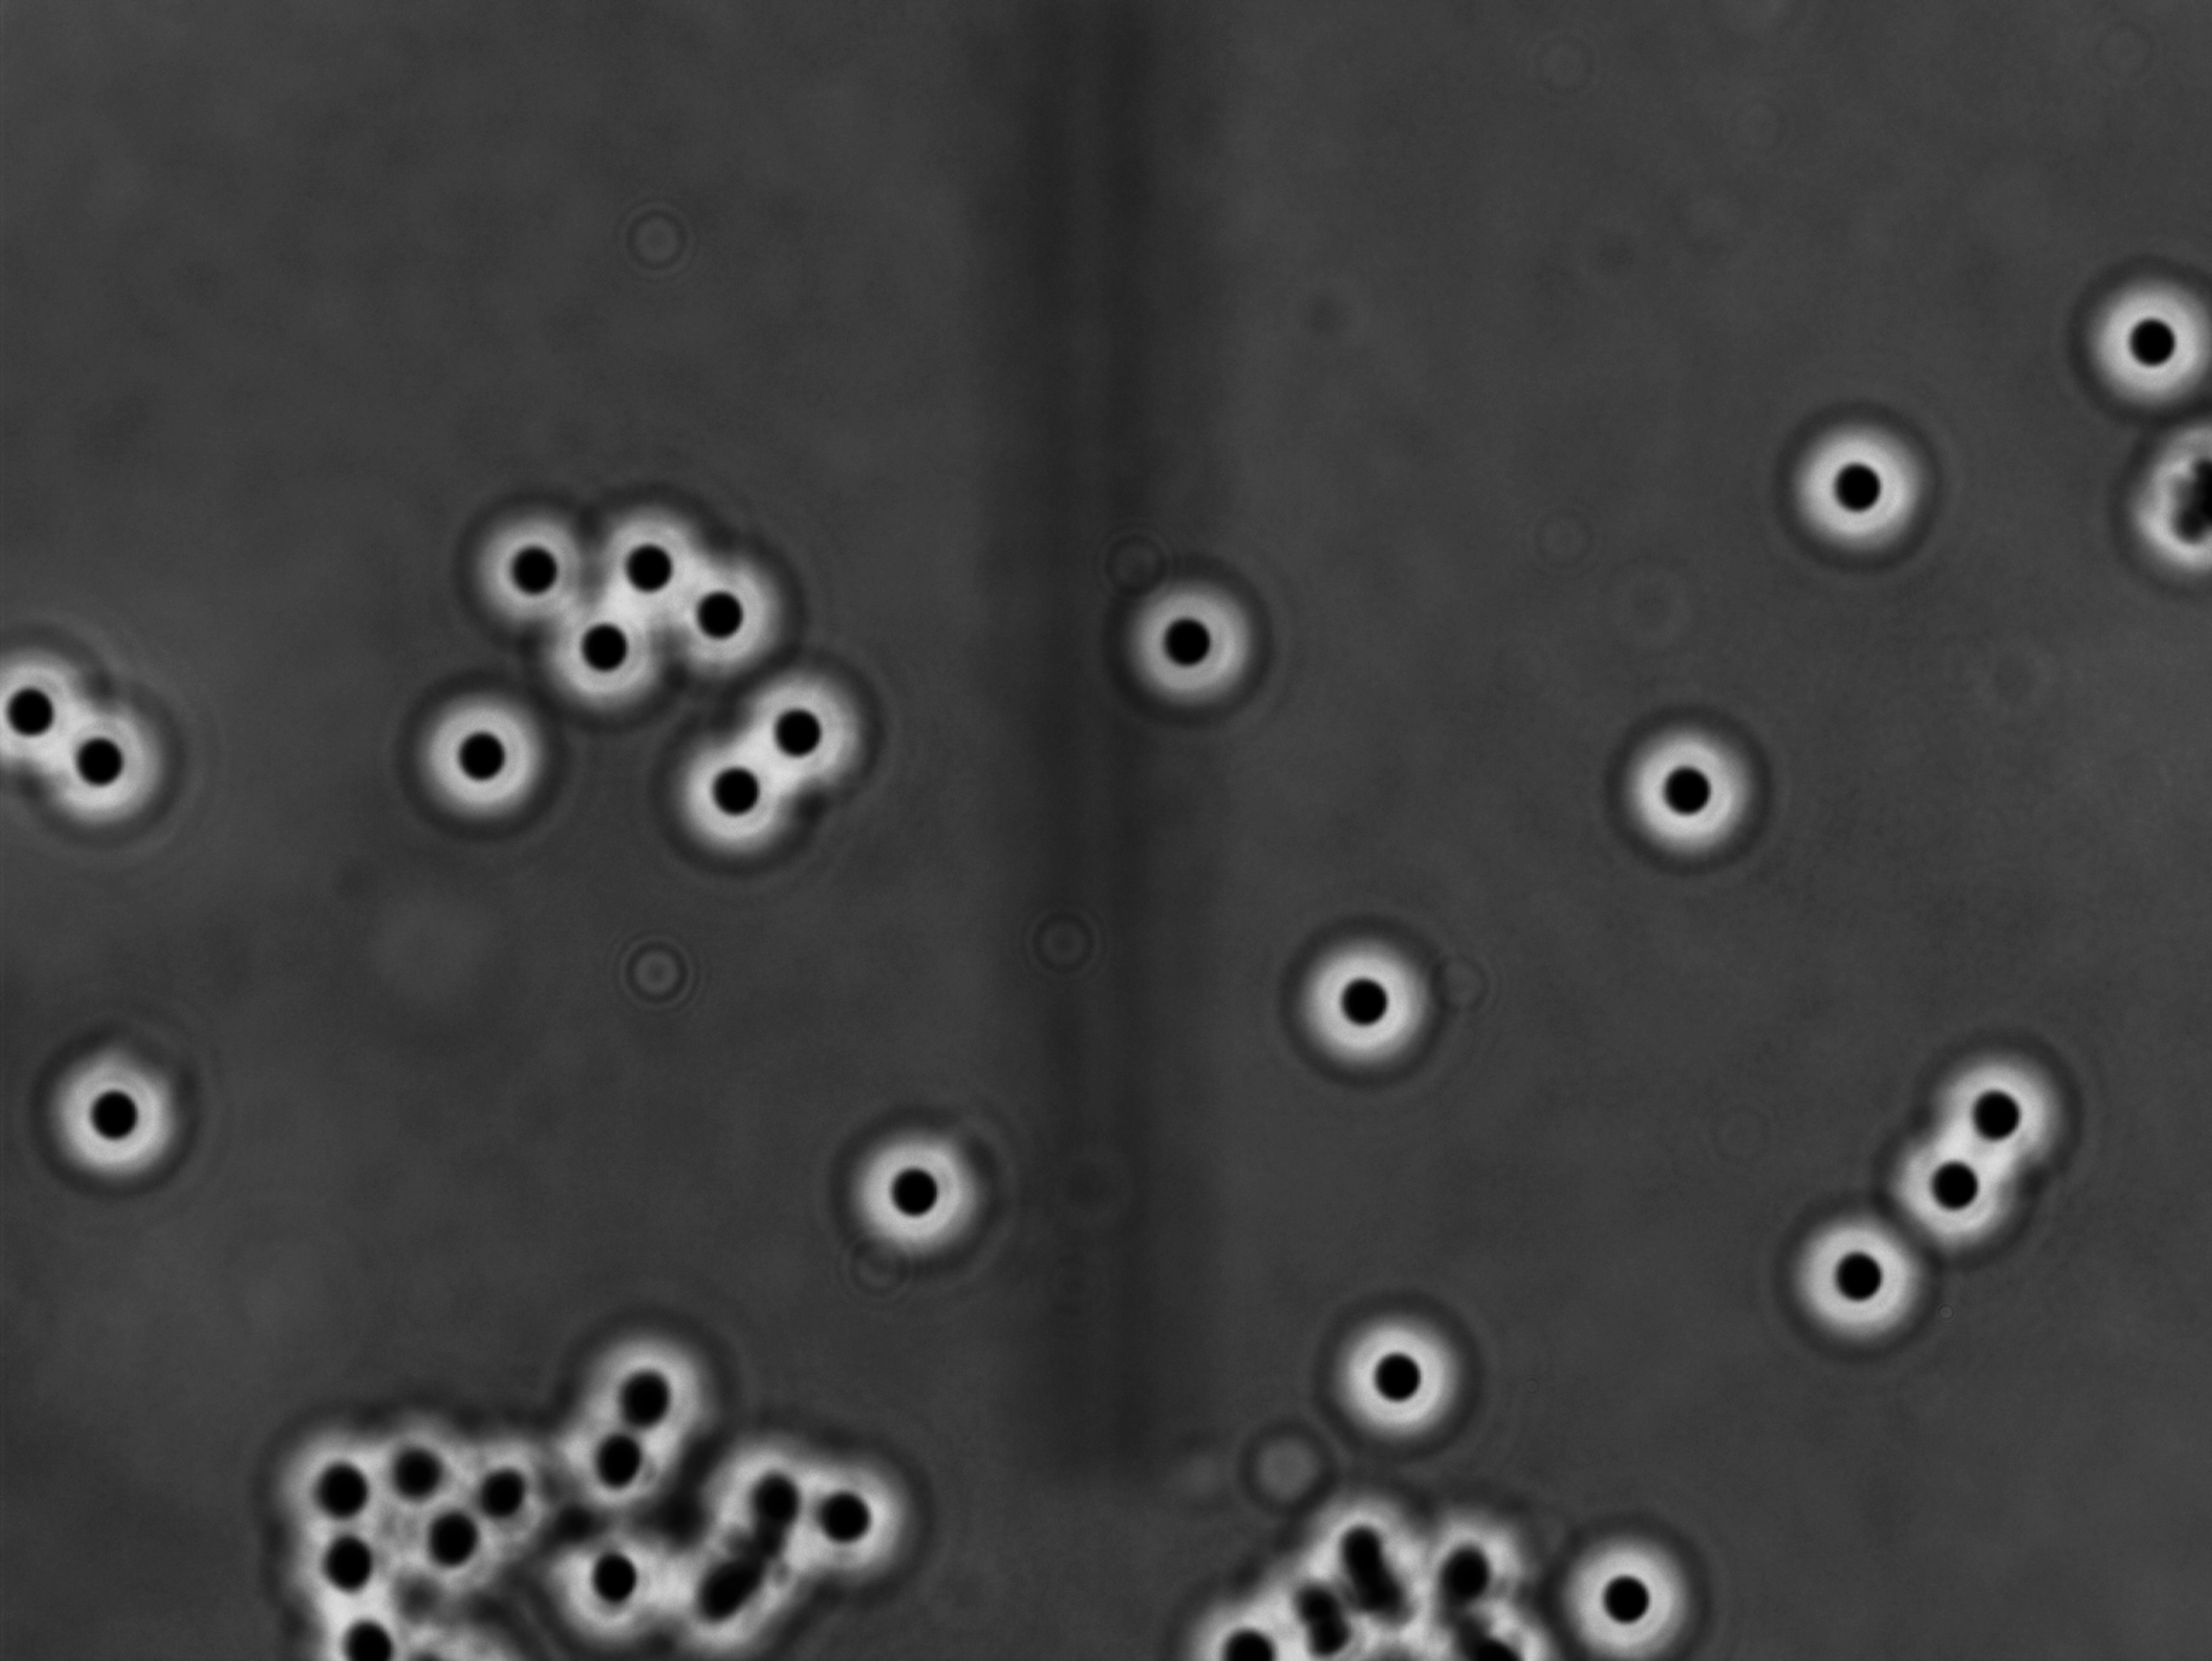depth:-40: (1312, 1288, 1499, 1457), (393, 660, 574, 830), (1272, 919, 1451, 1089), (37, 1031, 201, 1214), (31, 673, 194, 858), (1537, 1504, 1722, 1661), (830, 1111, 1000, 1282), (1605, 707, 1778, 872), (1778, 408, 1942, 583), (1765, 1204, 1943, 1361), (1921, 1043, 2099, 1200), (1111, 569, 1277, 722), (2065, 244, 2212, 415), (1879, 1125, 2041, 1277), (652, 527, 801, 679), (652, 731, 809, 869), (726, 663, 881, 801), (577, 492, 719, 633), (459, 499, 593, 632), (536, 593, 668, 726)
